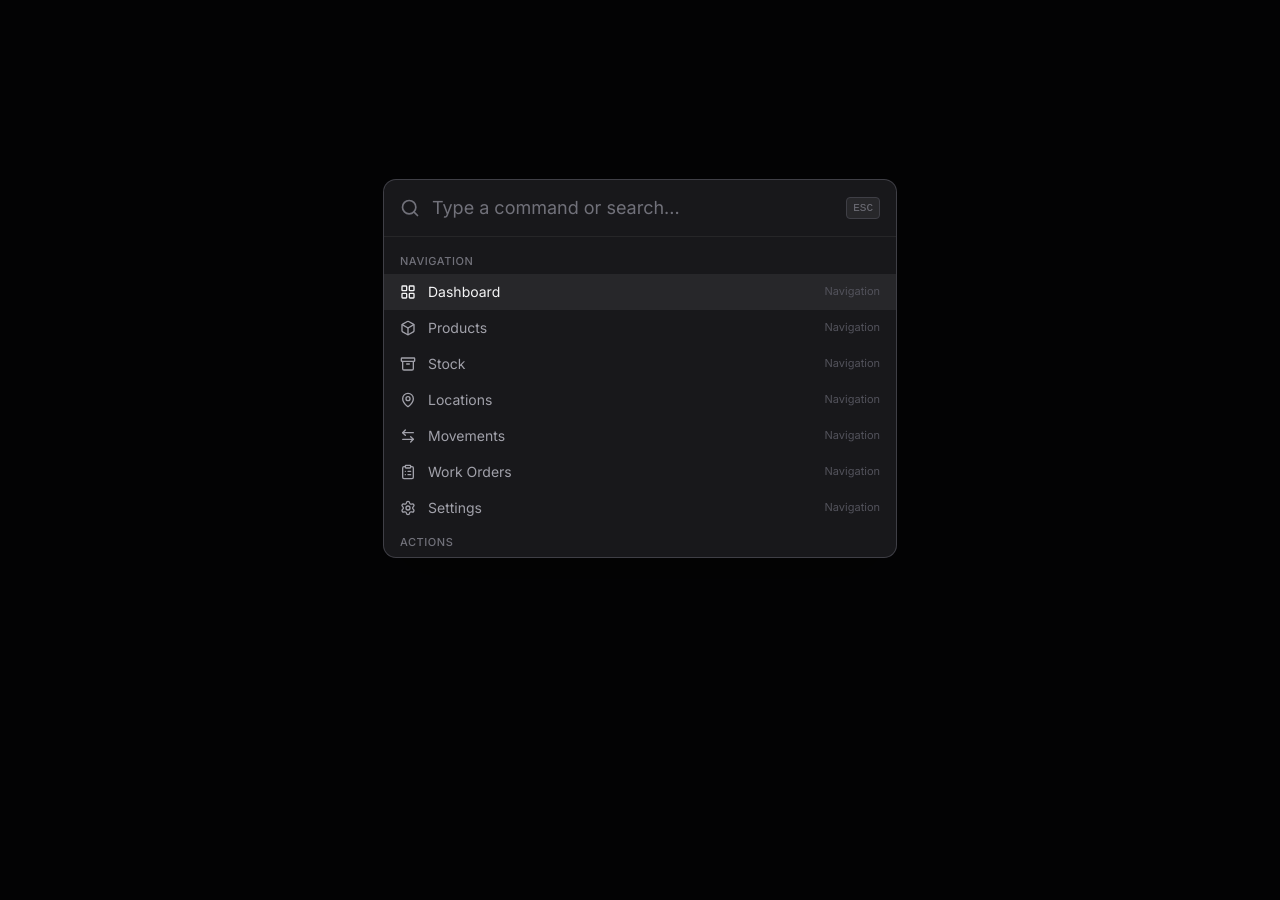
CommandPalette › shows 'No commands found' for non-matching query
Type "xyznonexistent" into the field with test id "command-palette-input" at (633, 208), box [432,180,834,236]
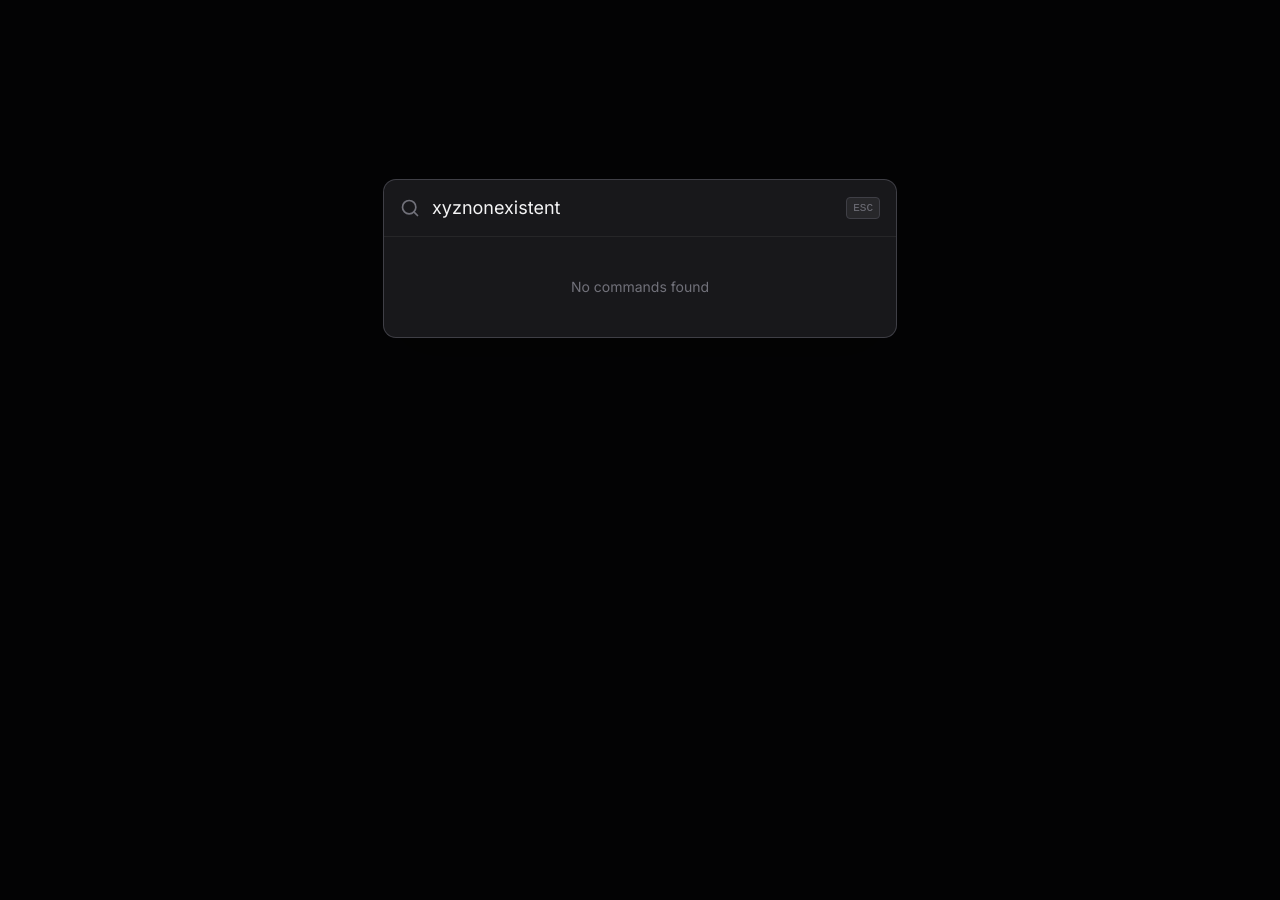
Expected: the text "No commands found" is shown, [571,278,709,295]
